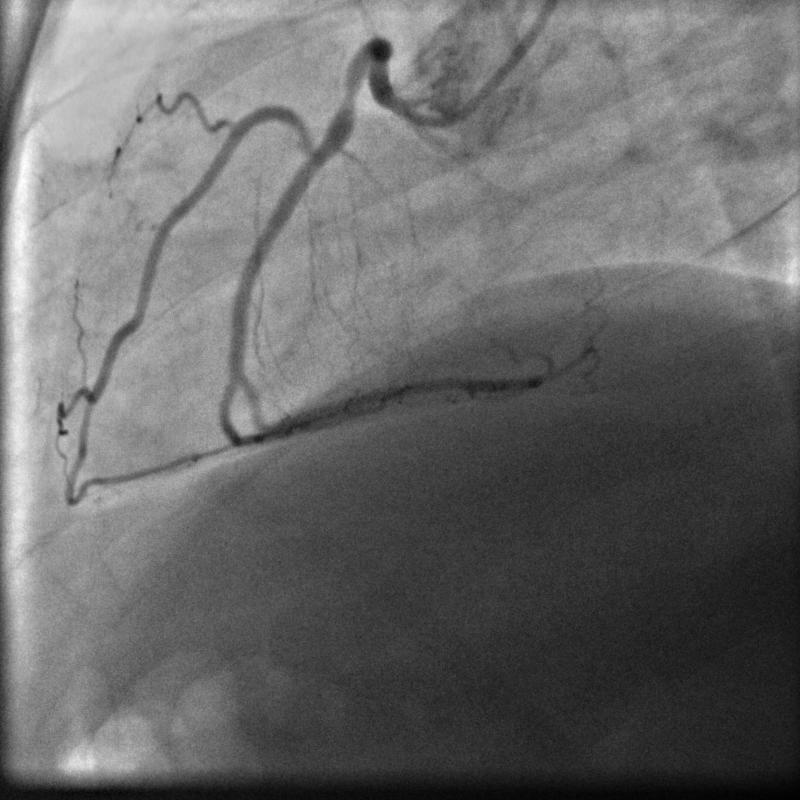Stenosis: (341, 76, 364, 115)
